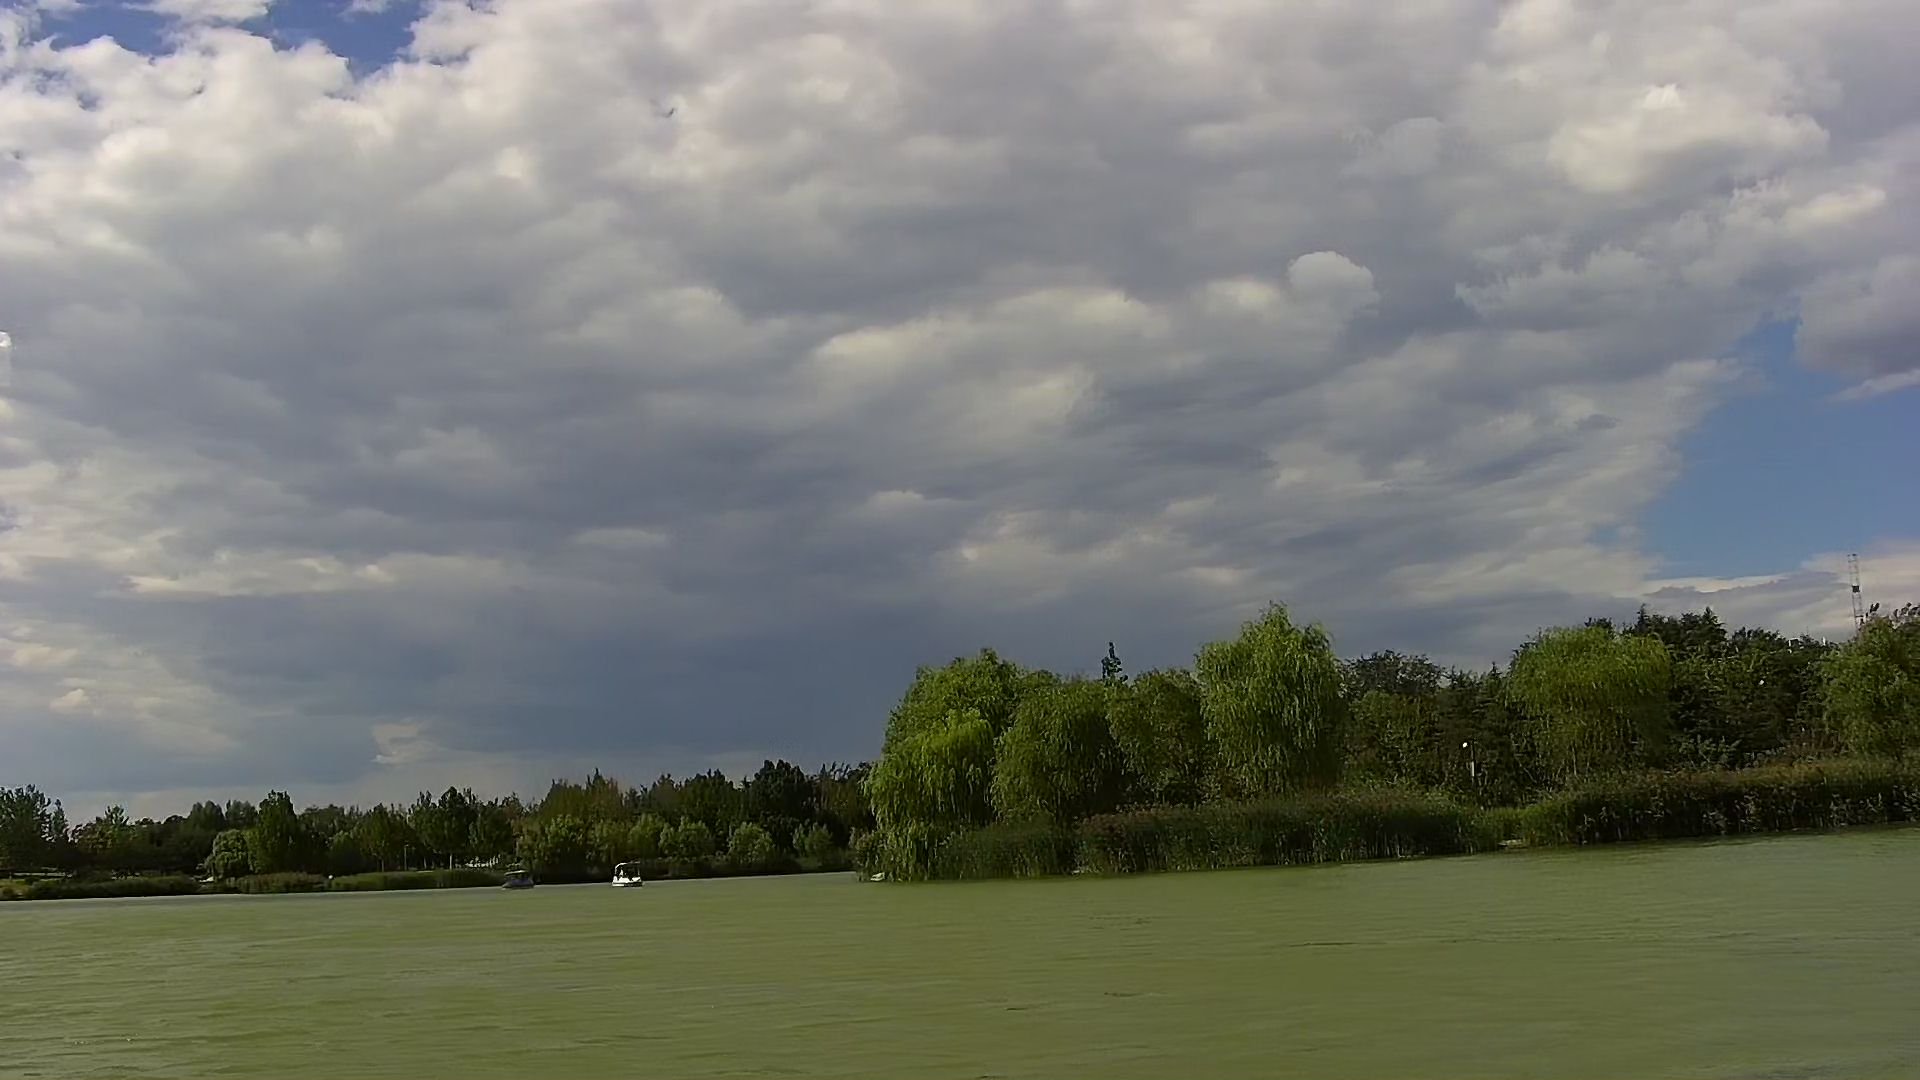boat: (607, 858, 637, 884), (502, 865, 525, 890)
